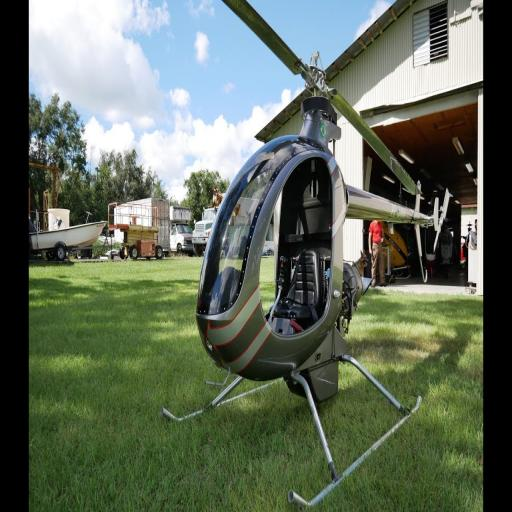helicopter: (138, 18, 428, 507)
